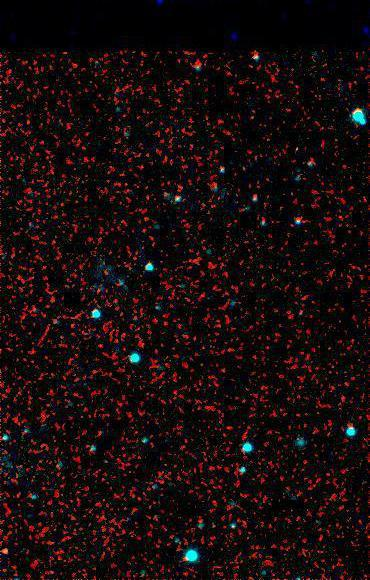star: (0, 534, 23, 564)
